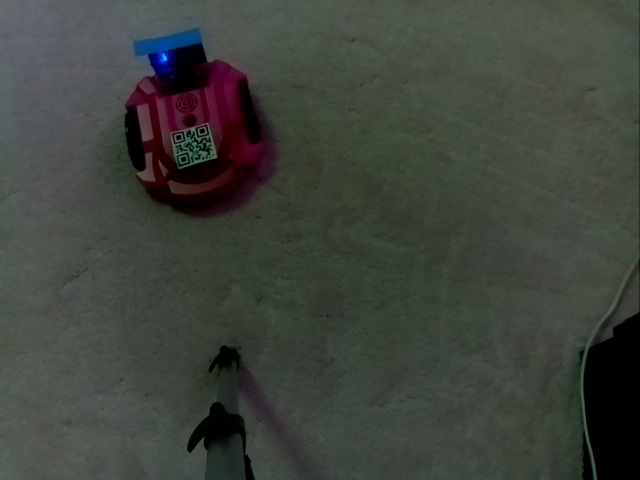chassis: (111, 32, 276, 201)
qr: (169, 121, 218, 172)
